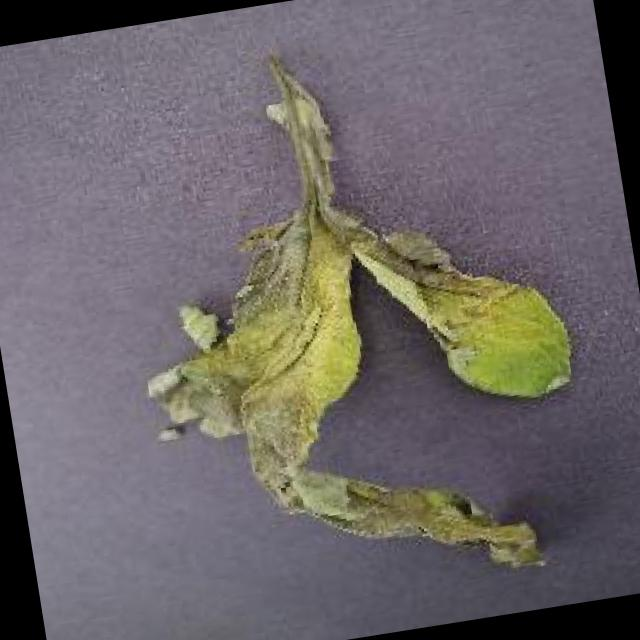Tomato_Late_Blight: (199, 172, 506, 364), (260, 422, 556, 610)
